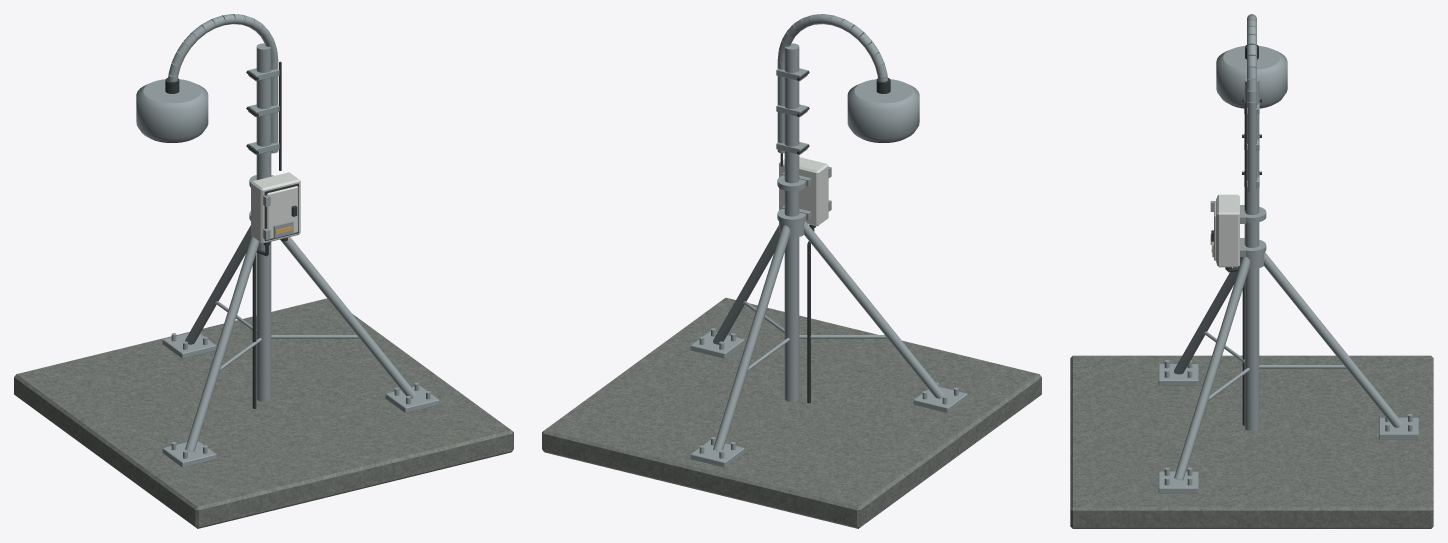
Rendered from mine-storm-warning.glb.
3 views of the same model, side by side, from view 1: azimuth 30°, elevation 25°; view 2: azimuth 150°, elevation 25°; view 3: azimuth 270°, elevation 25° (orthographic).
Parts seen in each view (by area): view 1: storm-warning__Monitor_concrete, storm-warning__Monitor_steel, storm-warning__Monitor_paint, storm-warning__Monitor_dark; view 2: storm-warning__Monitor_concrete, storm-warning__Monitor_steel, storm-warning__Monitor_paint, storm-warning__Monitor_dark; view 3: storm-warning__Monitor_concrete, storm-warning__Monitor_steel, storm-warning__Monitor_paint, storm-warning__Monitor_dark.
Part boxes in pixels (bbox=[...]): storm-warning__Monitor_concrete: bbox=[14, 298, 513, 528]; storm-warning__Monitor_steel: bbox=[136, 14, 439, 467]; storm-warning__Monitor_paint: bbox=[251, 172, 300, 243]; storm-warning__Monitor_dark: bbox=[150, 61, 298, 408]; storm-warning__Monitor_concrete: bbox=[542, 297, 1041, 528]; storm-warning__Monitor_steel: bbox=[690, 14, 967, 467]; storm-warning__Monitor_paint: bbox=[779, 157, 828, 226]; storm-warning__Monitor_dark: bbox=[780, 70, 905, 403]; storm-warning__Monitor_concrete: bbox=[1070, 355, 1433, 528]; storm-warning__Monitor_steel: bbox=[1158, 14, 1418, 493]; storm-warning__Monitor_paint: bbox=[1214, 194, 1239, 267]; storm-warning__Monitor_dark: bbox=[1211, 45, 1273, 425].
Bounding box in the file's own units: 2.4 × 3.01 × 2.4.
Materials: 6 (1 with a texture image).
